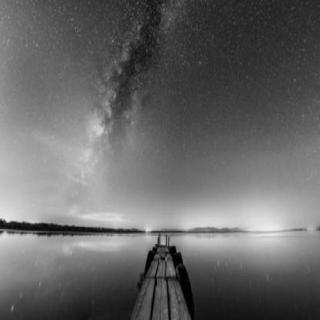other: (2, 199, 122, 253)
